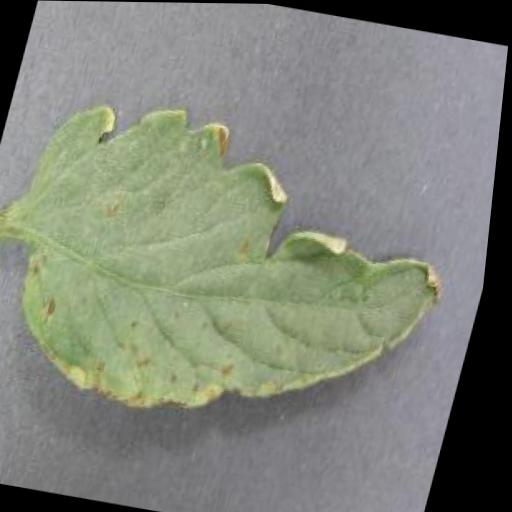Bacterial Spot: (0, 81, 489, 450)
